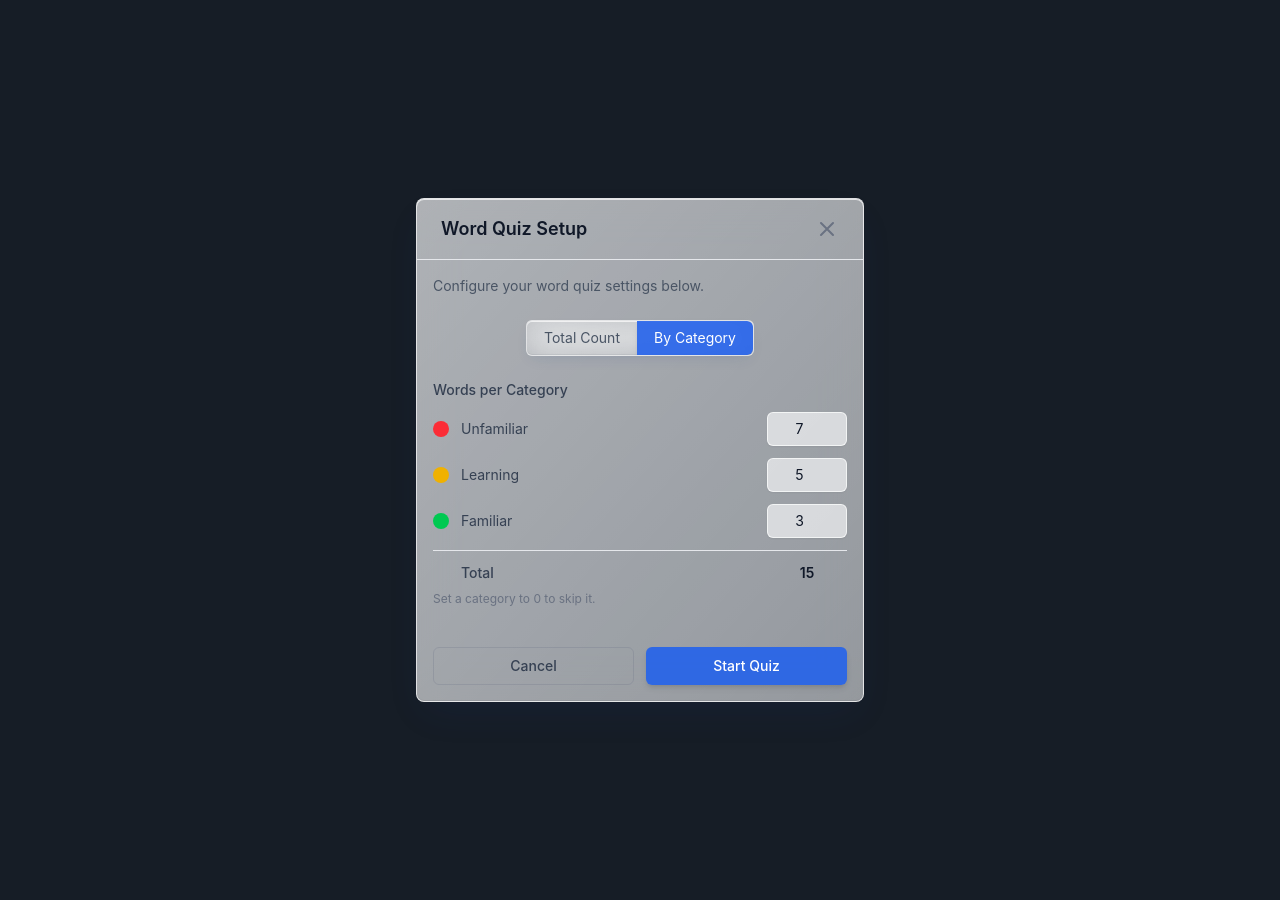
Test: QuizSetupModal › with familiarity selection › switches to total-count mode showing familiarity selection, and back to category mode
Click the button "Total Count" at {"x": 582, "y": 338}, box left=527, top=321, right=637, bottom=355
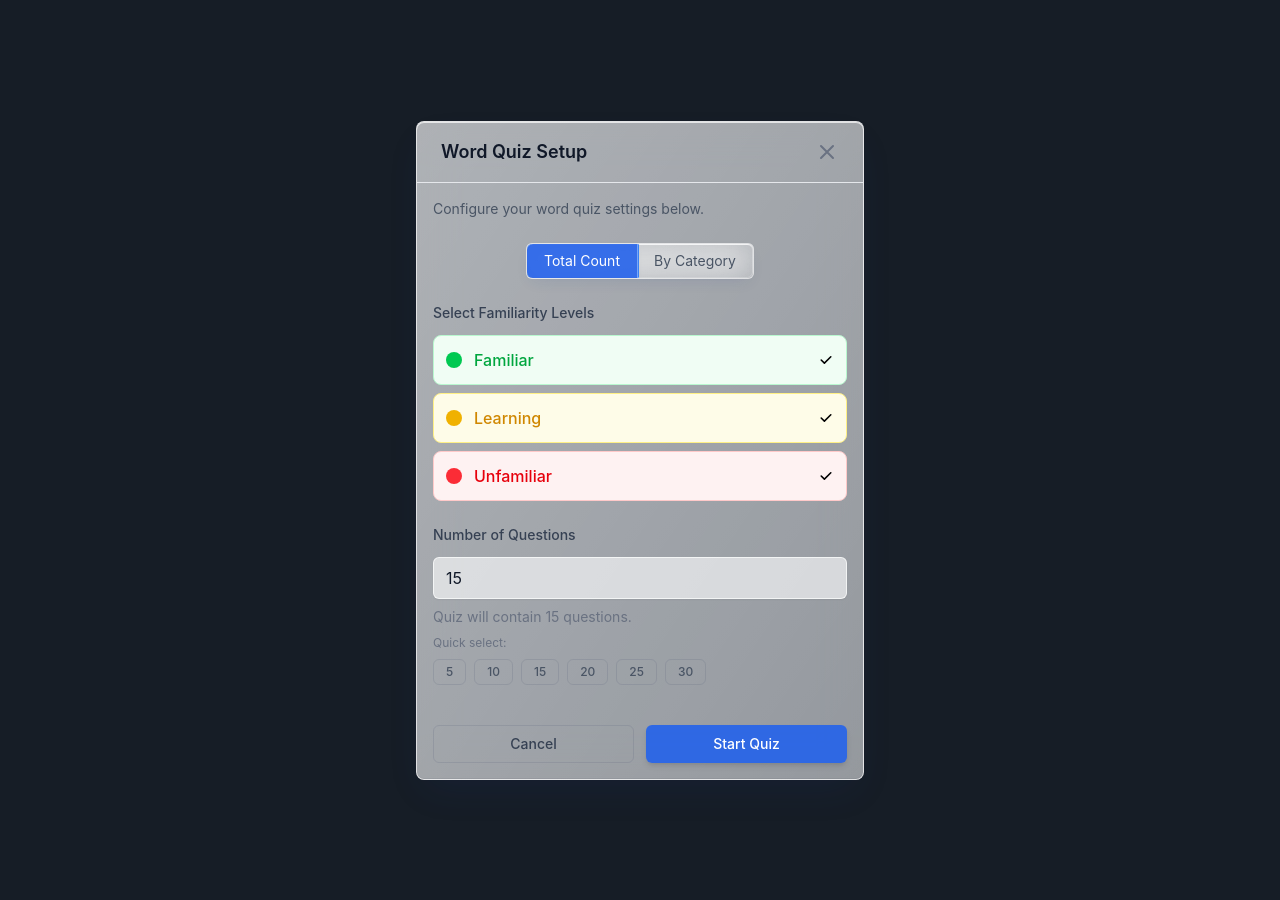
Expected: the number field is shown, left=433, top=556, right=847, bottom=598
Now the text "Select Familiarity Levels" is shown, box left=433, top=304, right=594, bottom=320
Now the text "Words per Category" is gone
Click the button "By Category" at {"x": 695, "y": 260}, box left=637, top=244, right=753, bottom=278
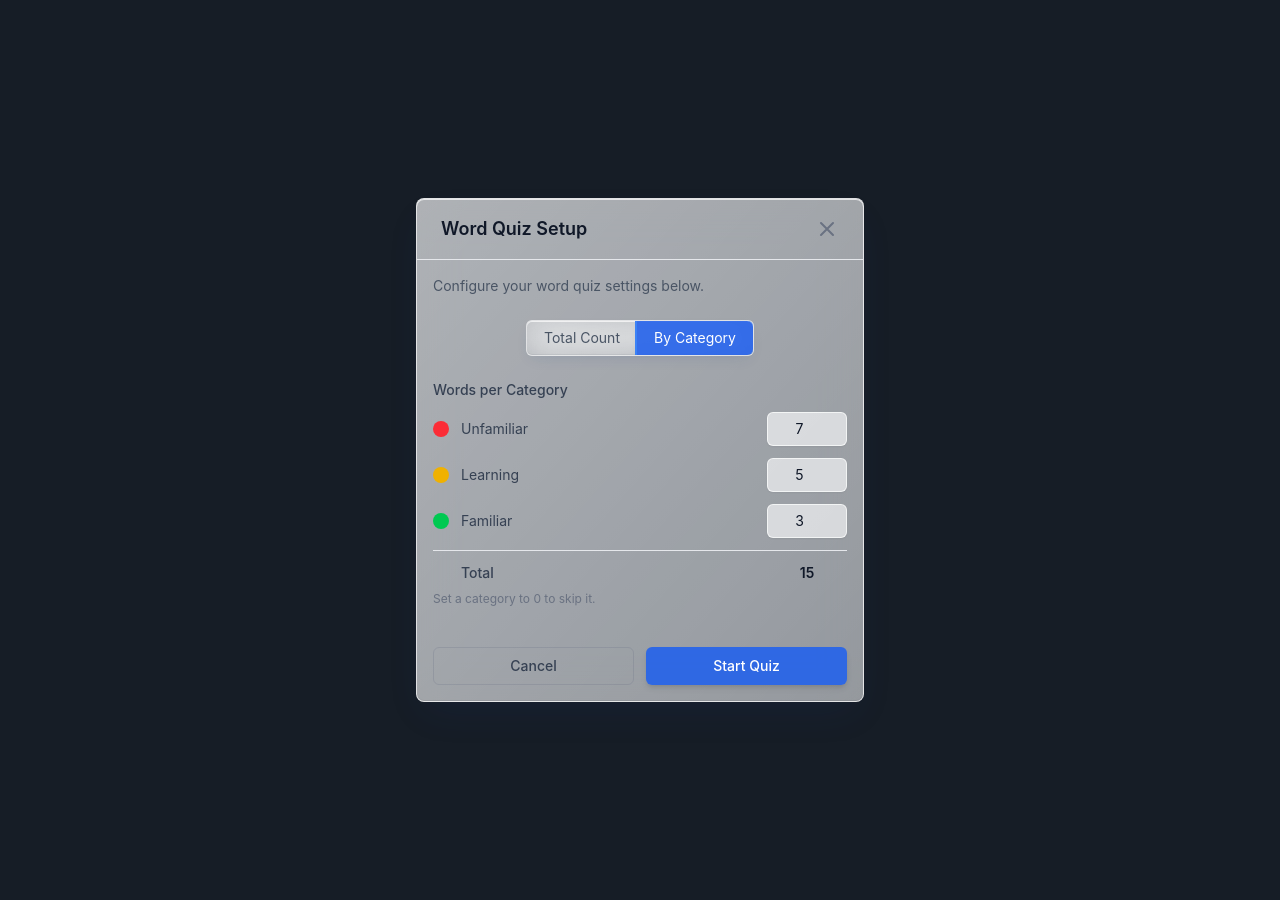
Now the text "Words per Category" is shown, box left=433, top=381, right=568, bottom=398
Now the text "Select Familiarity Levels" is gone
